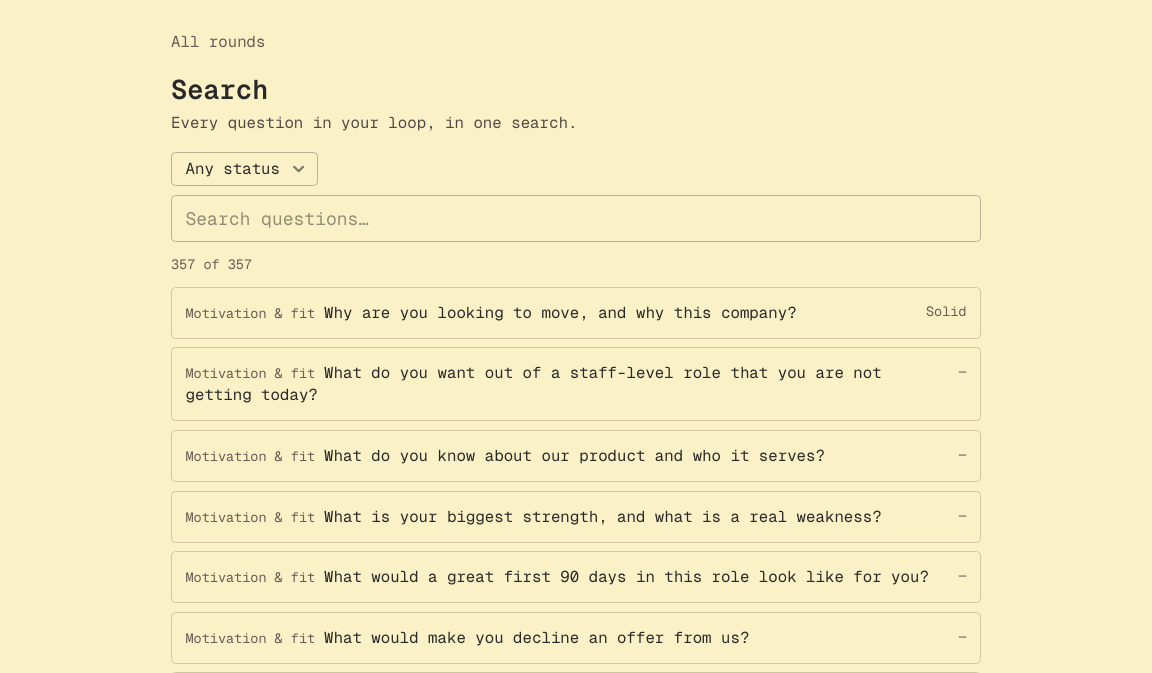
Scenario: SearchView › the status filter narrows the search to unseen questions only
Select "Unseen" in the dropdown named "status" at (244, 169), box [171,152,318,186]
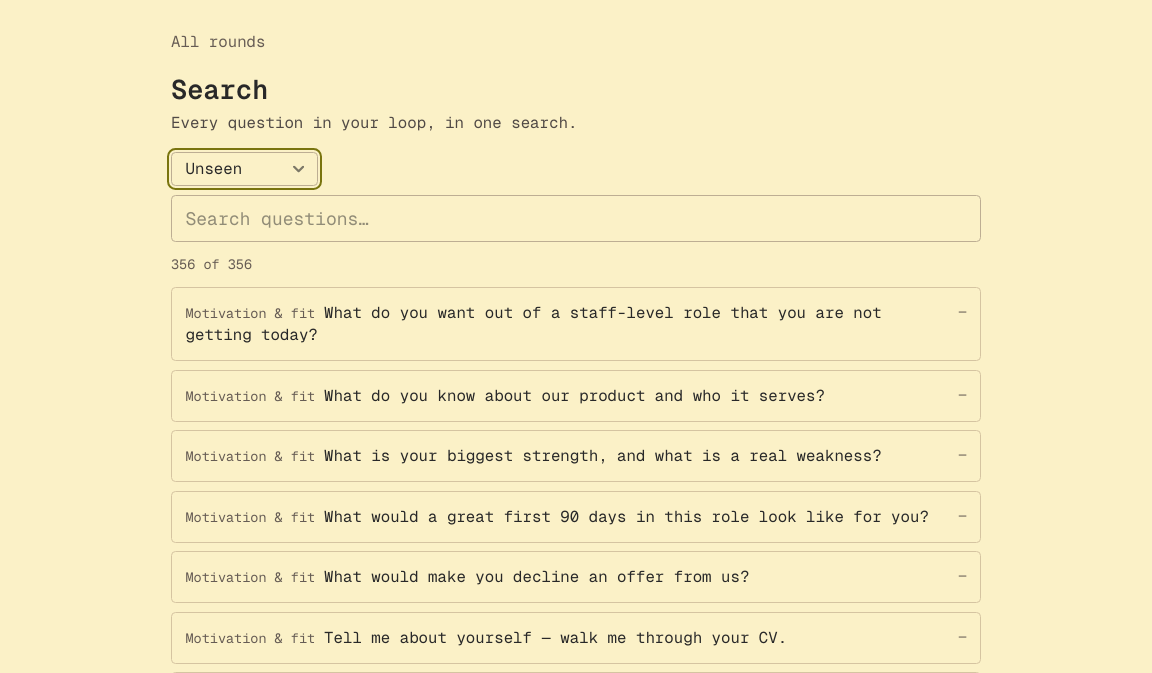
Now the button "Why are you looking to move, a" is gone
